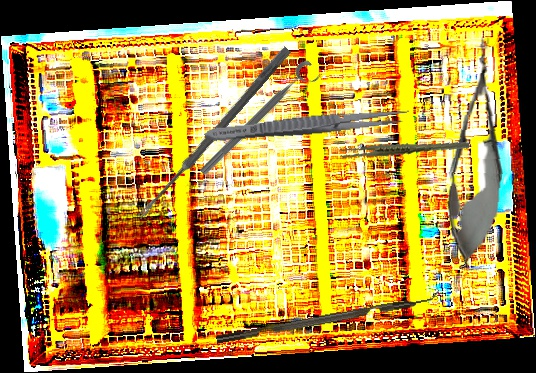Chopper: (214, 285, 441, 344)
Dressing Forceps: (203, 104, 411, 146)
Fixation Ring: (196, 58, 324, 185)
Micro Scissor: (440, 33, 513, 270)
Surgical Spoon: (135, 44, 292, 223)
Tissue Forceps: (338, 125, 470, 174)
